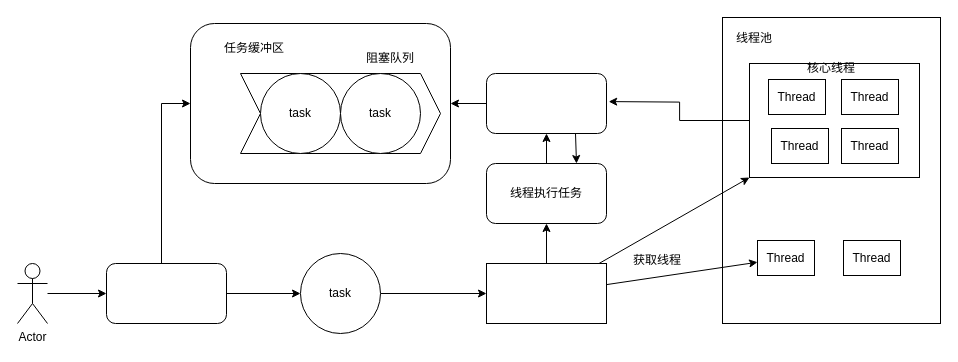
The diagram is 958 pixels wide and 362 high, and some of its shapes have lost their labels. The shapes that lost their labels are listed below. From the top down, each one's centre as x and y in pixels, then its label:
At [546,103]: "任务获取".
At [166,293]: "任务分配".
At [546,293]: "线程分配".
